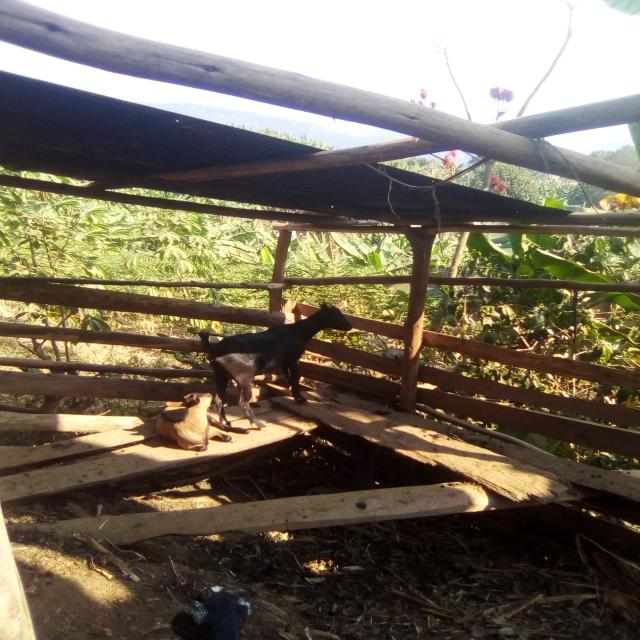goat: (180, 290, 383, 431)
